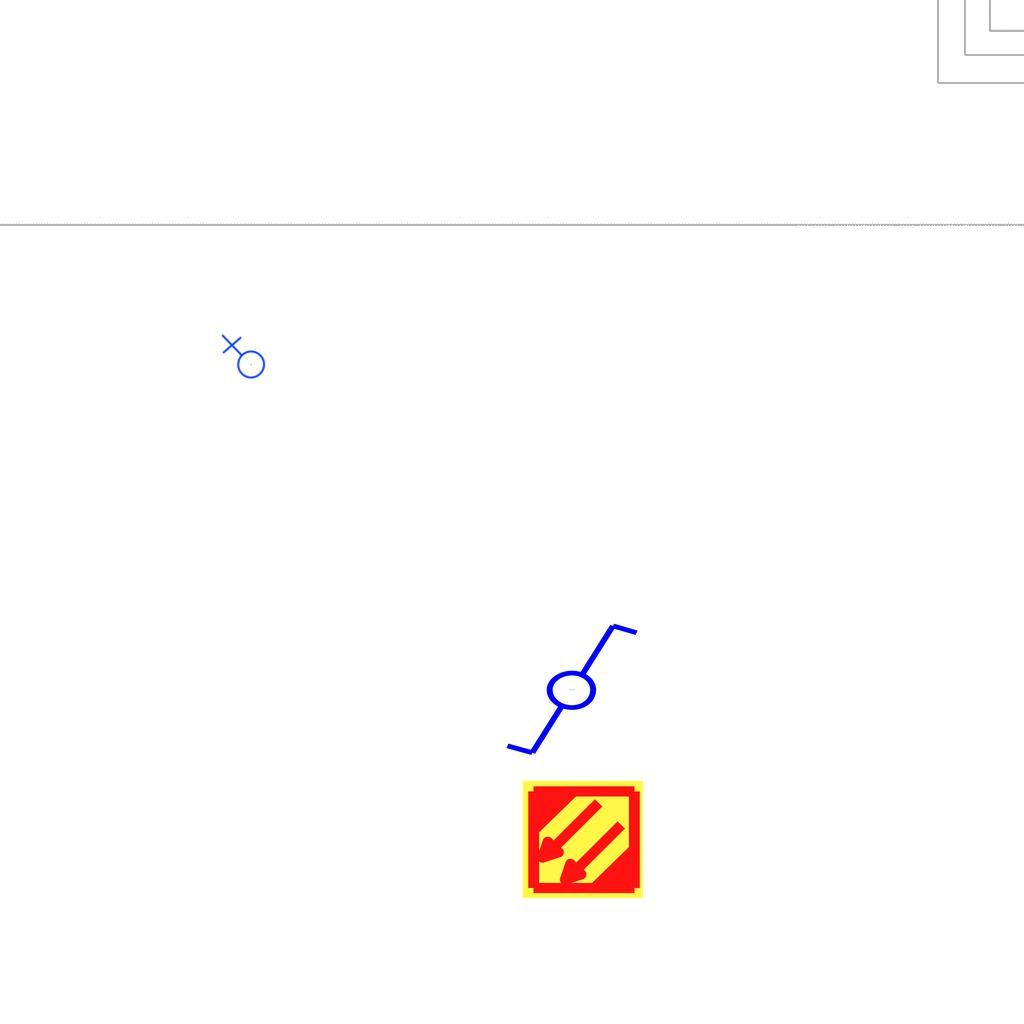ASR_Ansaugrauchmelder: (520, 777, 645, 902)
Elektroanschluss_allgemein_230V_Geraeteanschlussdose_230V: (219, 334, 266, 383)
Wechselschalter: (485, 616, 642, 760)
